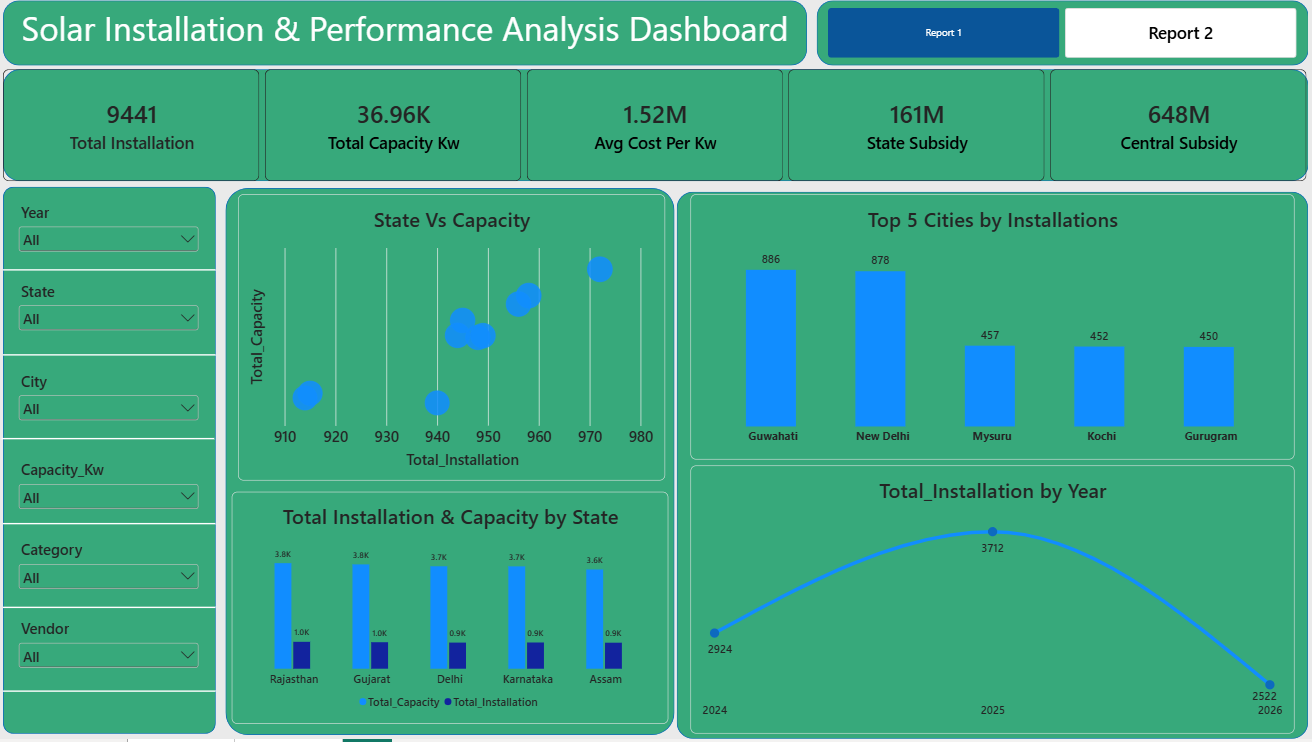

The dashboard page shown, as its layout file describes it:
{"tool":"powerbi","page":{"name":"Report 1","canvas":[1920,1080],"ordinal":0},"visuals":[{"type":"shape","box":[990,288,914,792],"z":0},{"type":"shape","box":[14,10,1164,94],"z":1000},{"type":"textbox","box":[14,18,1164,86],"z":2000},{"type":"shape","box":[1192,10,712,94],"z":3000},{"type":"shape","box":[14,110,1890,162],"z":4000},{"type":"cardVisual","fields":{"Data":["Count(Clean_Solar.Installation_Id)","Sum(Clean_Solar.Capacity_Kw)","Clean_Solar.Avg_Cost_Per_Kw","Clean_Solar.State_Subsidy","Clean_Solar.Central_Subsidy"]},"box":[14,110,1890,162],"z":5000},{"type":"shape","box":[14,280,308,792],"z":6000},{"type":"shape","box":[336,282,650,792],"z":7000},{"type":"clusteredColumnChart","title":"Total Installation & Capacity by State","fields":{"Category":["Clean_Solar.State"],"Y":["Clean_Solar.Total_Capacity","Clean_Solar.Total_Installation"]},"box":[346,722,632,336],"z":8000},{"type":"columnChart","title":"Top 5 Cities by Installations","fields":{"Category":["Clean_Solar.City"],"Y":["Count(Clean_Solar.Installation_Id)"]},"box":[1010,292,874,384],"z":9000},{"type":"scatterChart","title":"State Vs Capacity","fields":{"Category":["Clean_Solar.State"],"Size":["Sum(Clean_Solar.Monthly_Generation_Units)"],"X":["Clean_Solar.Total_Installation"],"Y":["Clean_Solar.Total_Capacity"]},"box":[354,292,618,414],"z":10000},{"type":"lineChart","fields":{"Category":["Clean_Solar.Installation_Date.Variation.Date Hierarchy.Year"],"Y":["Clean_Solar.Total_Installation"]},"box":[1010,684,874,388],"z":11000},{"type":"slicer","fields":{"Values":["Clean_Solar.Year"]},"box":[32.6,302.2,270,84],"z":12000},{"type":"slicer","fields":{"Values":["Clean_Solar.State"]},"box":[32.6,416.2,270,84],"z":13000},{"type":"slicer","fields":{"Values":["Clean_Solar.City"]},"box":[32.6,546.5,270,84],"z":14000},{"type":"slicer","fields":{"Values":["Clean_Solar.Capacity_Kw"]},"box":[32.6,675,270,84],"z":15000},{"type":"shape","box":[14.5,385.5,307.6,30.8],"z":16000},{"type":"shape","box":[14.5,508.5,307.6,30.8],"z":17000},{"type":"shape","box":[12.7,629.8,307.6,30.8],"z":18000},{"type":"shape","box":[14.5,752.8,307.6,30.8],"z":19000},{"type":"shape","box":[14.5,874.1,307.6,30.8],"z":20000},{"type":"slicer","fields":{"Values":["Clean_Solar.Category"]},"box":[32.6,790.8,270,84],"z":21000},{"type":"shape","box":[14.5,995.3,307.6,30.8],"z":22000},{"type":"slicer","fields":{"Values":["Clean_Solar.Vendor"]},"box":[32.6,904.8,270,84],"z":23000},{"type":"pageNavigator","box":[1208,22,678,72],"z":23001}]}

Visuals, with their boxes in screenshot pixels (x1, y1, x2, y2), scaled from the page's 1920x1080 canvas onto the 1312x742 screenshot:
shape: 676/198/1301/741
shape: 10/7/805/71
textbox: 10/12/805/71
shape: 815/7/1301/71
shape: 10/76/1301/187
cardVisual - Count(Clean_Solar.Installation_Id) x Sum(Clean_Solar.Capacity_Kw): 10/76/1301/187
shape: 10/192/220/737
shape: 230/194/674/738
"Total Installation & Capacity by State" clusteredColumnChart: 236/496/668/727
"Top 5 Cities by Installations" columnChart: 690/201/1287/464
"State Vs Capacity" scatterChart: 242/201/664/485
lineChart - Clean_Solar.Installation_Date.Variation.Date Hierarchy.Year x Clean_Solar.Total_Installation: 690/470/1287/737
slicer - Clean_Solar.Year: 22/208/207/265
slicer - Clean_Solar.State: 22/286/207/344
slicer - Clean_Solar.City: 22/375/207/433
slicer - Clean_Solar.Capacity_Kw: 22/464/207/521
shape: 10/265/220/286
shape: 10/349/220/371
shape: 9/433/219/454
shape: 10/517/220/538
shape: 10/601/220/622
slicer - Clean_Solar.Category: 22/543/207/601
shape: 10/684/220/705
slicer - Clean_Solar.Vendor: 22/622/207/679
pageNavigator: 825/15/1289/65
